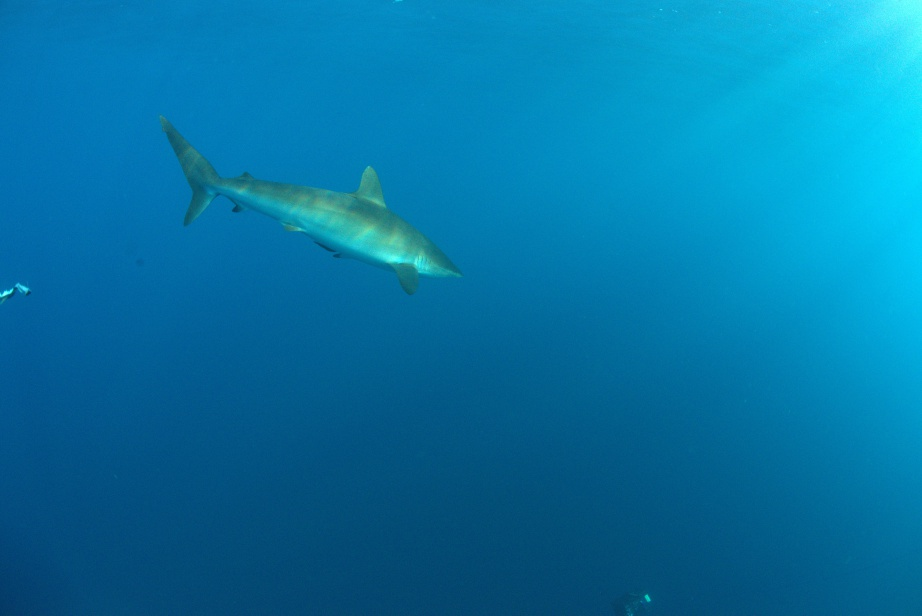Sedoso: (128, 89, 482, 307)
